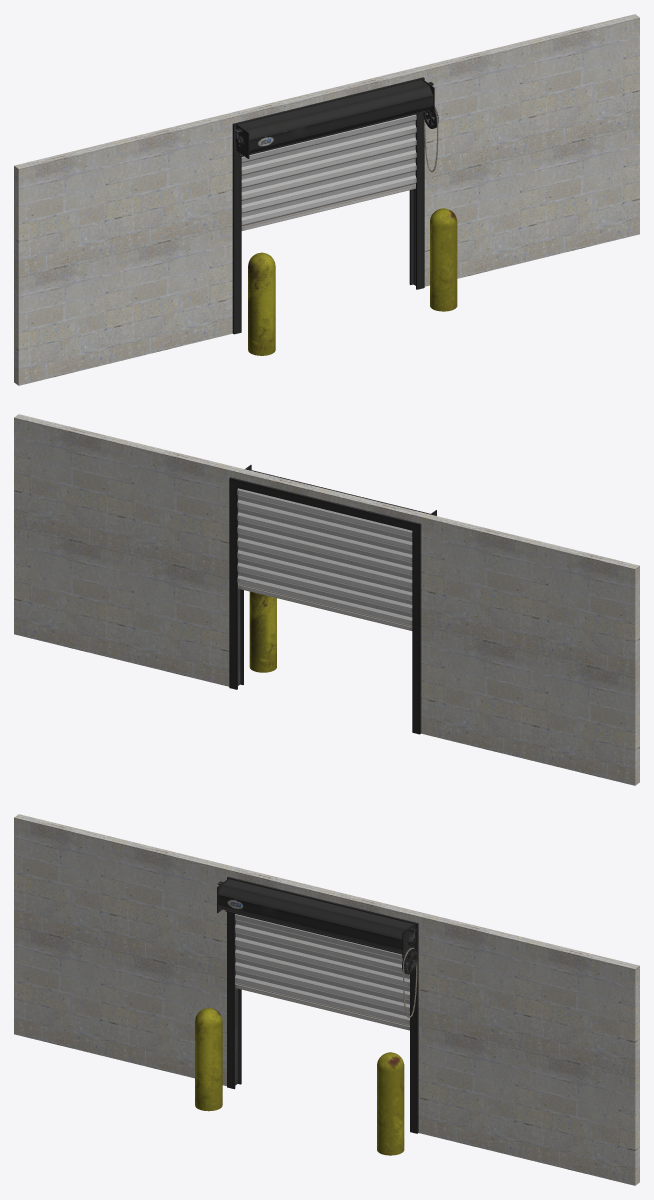
3 views of the same model, one above another, from view 1: azimuth 30°, elevation 25°; view 2: azimuth 150°, elevation 25°; view 3: azimuth 330°, elevation 25° (orthographic).
Parts seen in each view (by area): view 1: SM_Wall_02, SM_Wall_01, SM_RollingDoor, SM_WallDoor, SM_Bollard_02, SM_Bollard_01; view 2: SM_Wall_02, SM_Wall_01, SM_RollingDoor, SM_WallDoor, SM_Bollard_02; view 3: SM_Wall_01, SM_Wall_02, SM_RollingDoor, SM_WallDoor, SM_Bollard_02, SM_Bollard_01.
Part boxes in pixels (x1,y1,x2,y2): SM_Wall_02: [14, 115, 225, 385]; SM_Wall_01: [428, 14, 639, 278]; SM_RollingDoor: [232, 77, 438, 334]; SM_WallDoor: [221, 64, 432, 335]; SM_Bollard_02: [430, 208, 457, 311]; SM_Bollard_01: [248, 252, 275, 355]; SM_Wall_02: [428, 515, 639, 785]; SM_Wall_01: [14, 414, 225, 684]; SM_RollingDoor: [229, 465, 436, 734]; SM_WallDoor: [221, 464, 432, 735]; SM_Bollard_02: [249, 591, 276, 672]; SM_Wall_01: [428, 915, 639, 1185]; SM_Wall_02: [14, 814, 225, 1078]; SM_RollingDoor: [217, 876, 418, 1133]; SM_WallDoor: [221, 864, 432, 1135]; SM_Bollard_02: [377, 1052, 404, 1155]; SM_Bollard_01: [195, 1008, 222, 1111].
Size of the model in its own units: 7.27 by 2.42 by 0.7501.
Materials: 2 (2 with a texture image).
